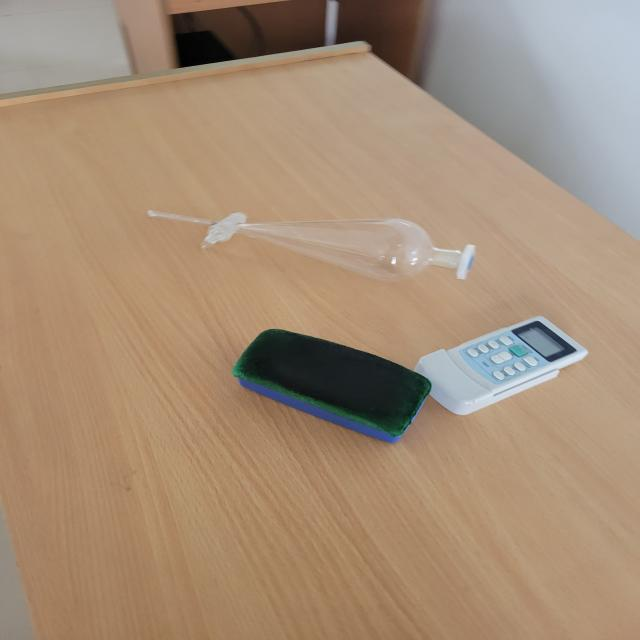Separating_Funnel: (107, 174, 496, 312)
